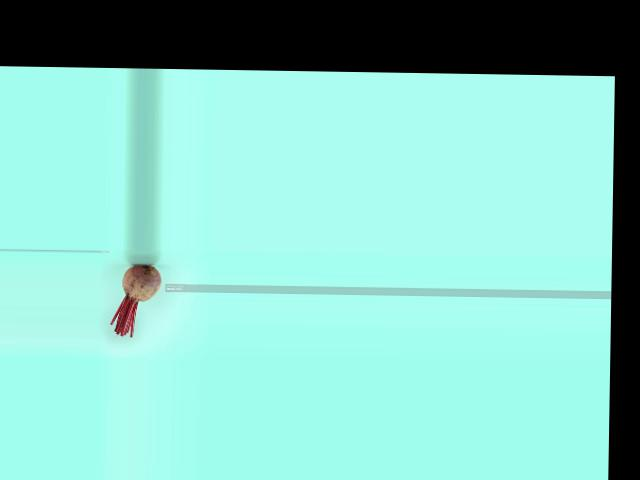beet: (110, 264, 162, 337)
